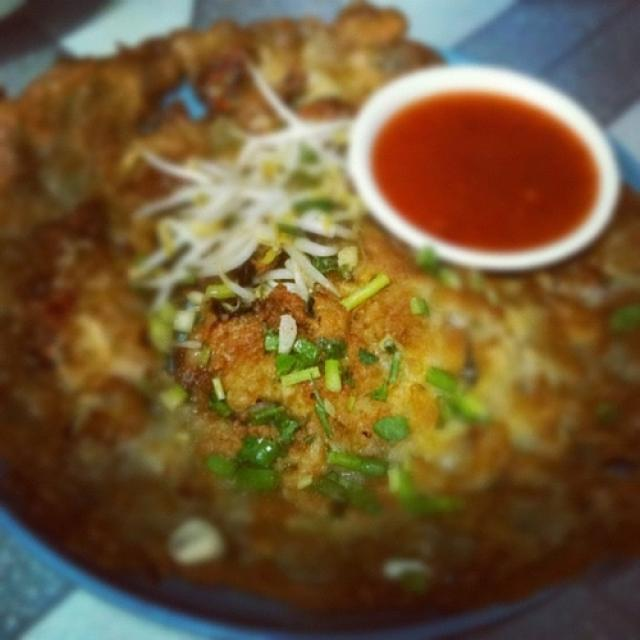炸货点心: (5, 5, 623, 613)
蛋糕甜品: (5, 5, 623, 613)
